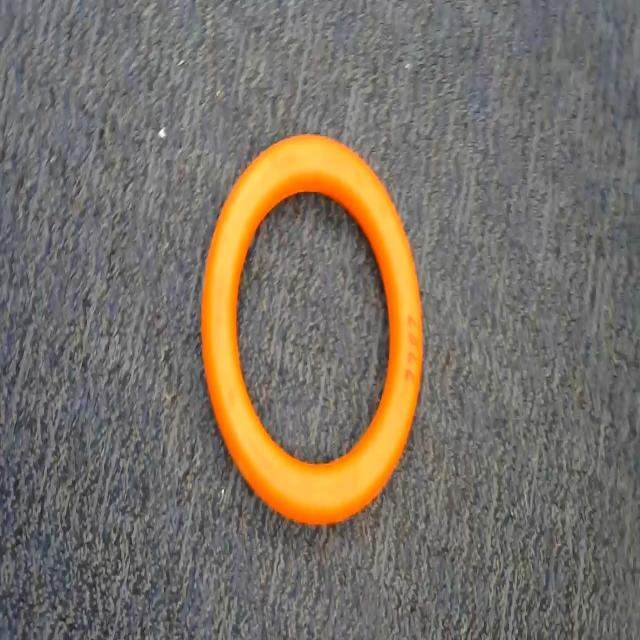note: (181, 112, 454, 555)
